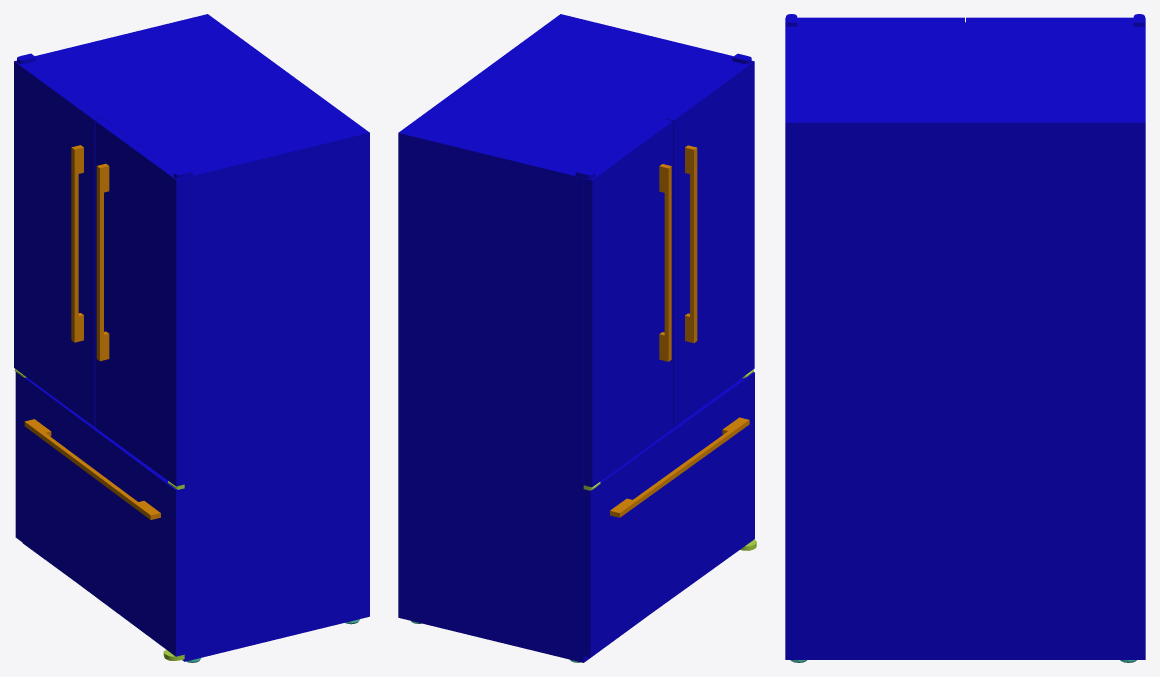
File: Fridge.fbx
3 renders of one model, left to right at view 1: azimuth 30°, elevation 25°; view 2: azimuth 150°, elevation 25°; view 3: azimuth 270°, elevation 25°, orthographic. The views are drawn at different scales.
Parts seen in each view (by area): view 1: Fridge_Main, Freezer_Door, Door_Right, Door_Left; view 2: Fridge_Main, Freezer_Door, Door_Left, Door_Right; view 3: Fridge_Main, Door_Right, Door_Left.
Part boxes in pixels (x1=…): Fridge_Main: x1=14, y1=14, x2=369, y2=662; Freezer_Door: x1=15, y1=372, x2=184, y2=656; Door_Right: x1=95, y1=119, x2=184, y2=486; Door_Left: x1=14, y1=60, x2=103, y2=426; Fridge_Main: x1=398, y1=14, x2=756, y2=662; Freezer_Door: x1=583, y1=372, x2=754, y2=657; Door_Left: x1=584, y1=119, x2=673, y2=487; Door_Right: x1=665, y1=60, x2=754, y2=427; Fridge_Main: x1=785, y1=14, x2=1145, y2=662; Door_Right: x1=785, y1=17, x2=964, y2=22; Door_Left: x1=966, y1=17, x2=1145, y2=22.
Size of the model in its own units: 78.37 by 181 by 108.
